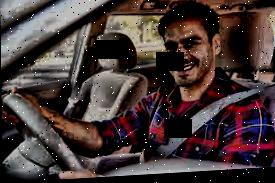seatbelt: (139, 82, 275, 164), (64, 43, 95, 116)
